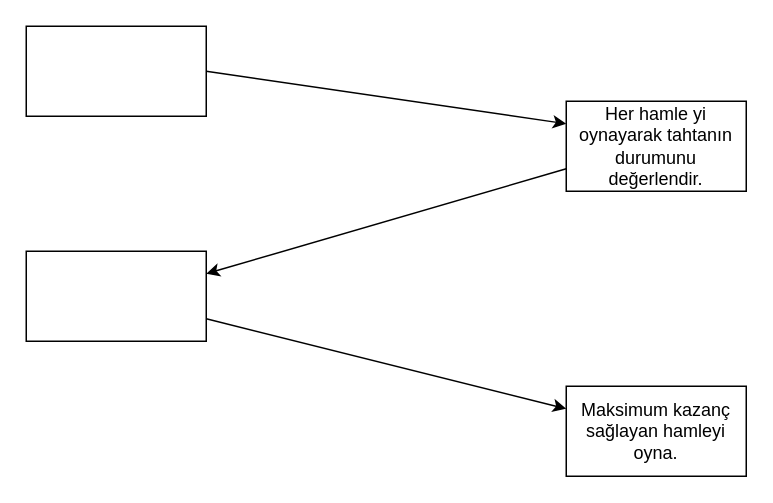
This 773x503 diagram has some shape labels left out. The centre of each missing label's shape, as x and y in pixels:
"Hamleler arasından maksimum kazanç sağlayan hamleyi seç." belongs at [115,295].
"Tahtanın güncel durumu için yapılacak tüm hamlelerin listesini çıkar." belongs at [115,70].
